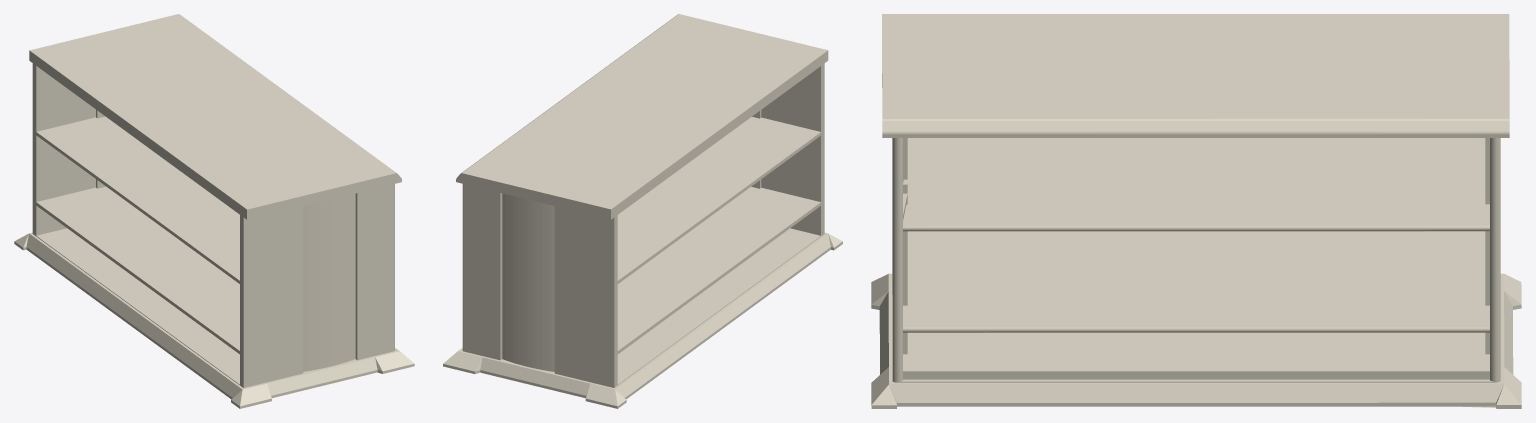
File: Propo_Mesa_Estanteria_baja_larga.fbx
3 views of the same model, side by side, from view 1: azimuth 30°, elevation 25°; view 2: azimuth 150°, elevation 25°; view 3: azimuth 270°, elevation 25° (orthographic). The views are drawn at different scales.
Visible parts, largest first — view 1: Propo_Mesa_Estanteria_baja_larga; view 2: Propo_Mesa_Estanteria_baja_larga; view 3: Propo_Mesa_Estanteria_baja_larga.
Part boxes in pixels (x1,y1,x2,y2): Propo_Mesa_Estanteria_baja_larga: (14, 14, 414, 408); Propo_Mesa_Estanteria_baja_larga: (443, 14, 842, 408); Propo_Mesa_Estanteria_baja_larga: (871, 14, 1521, 408).
Size of the model in its own units: 73.56 by 77.94 by 164.
